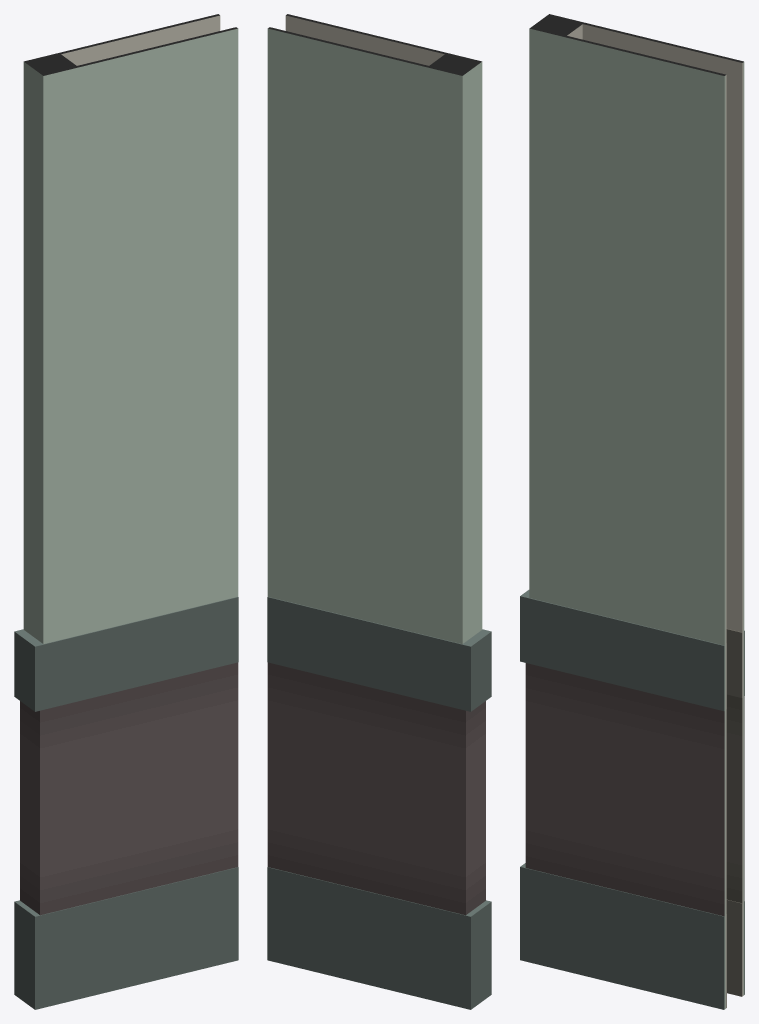
Rendered from mesh_doublewall_corner.glb.
3 views of the same model, side by side, from view 1: azimuth 30°, elevation 25°; view 2: azimuth 150°, elevation 25°; view 3: azimuth 330°, elevation 25° (orthographic).
Parts seen in each view (by area): view 1: mesh_doublewall_corner_mat_wall_inside_2_0; view 2: mesh_doublewall_corner_mat_wall_inside_2_0; view 3: mesh_doublewall_corner_mat_wall_inside_2_0.
Part boxes in pixels (x1=…): mesh_doublewall_corner_mat_wall_inside_2_0: x1=14, y1=14, x2=238, y2=1009; mesh_doublewall_corner_mat_wall_inside_2_0: x1=267, y1=14, x2=491, y2=1009; mesh_doublewall_corner_mat_wall_inside_2_0: x1=520, y1=14, x2=744, y2=1009.
Bounding box in the file's own units: 0.7842 × 3.43 × 0.1389.
Materials: 4 (4 with a texture image).
